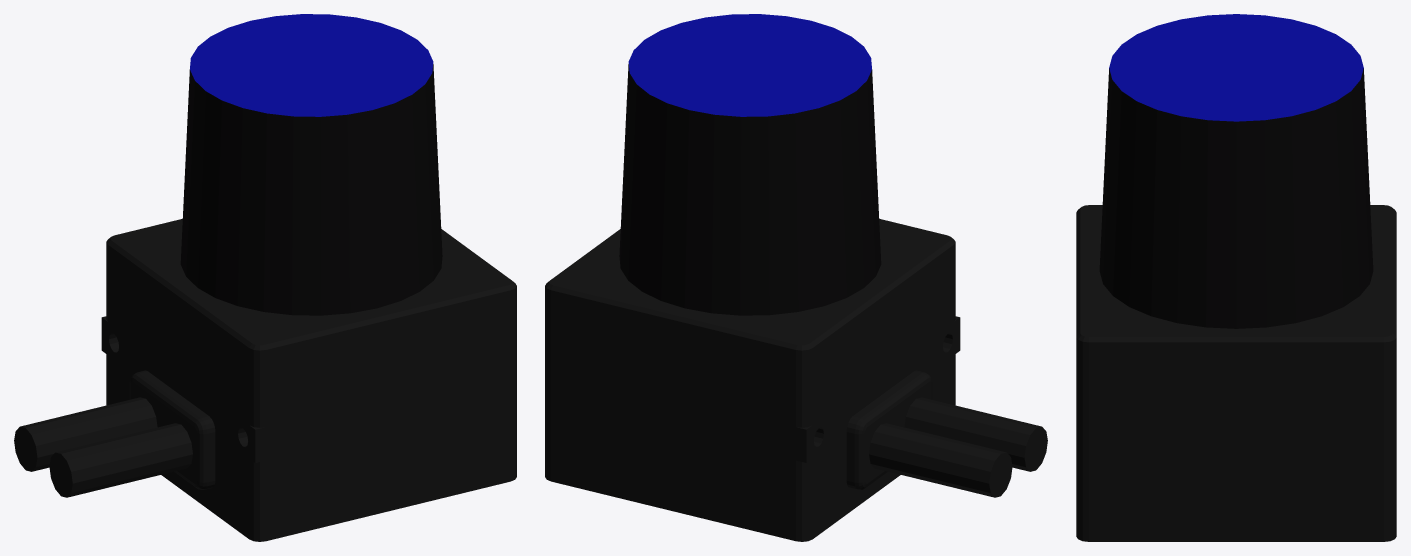
File: hokuyo_ust20lx.obj
3 views of the same model, side by side, from view 1: azimuth 30°, elevation 25°; view 2: azimuth 150°, elevation 25°; view 3: azimuth 270°, elevation 25° (orthographic). The views are drawn at different scales.
Parts seen in each view (by area): view 1: ust-20lx_ust-20lx; view 2: ust-20lx_ust-20lx; view 3: ust-20lx_ust-20lx.
Boxes of the visible parts, x1=… form: ust-20lx_ust-20lx: x1=14, y1=14, x2=516, y2=541; ust-20lx_ust-20lx: x1=545, y1=14, x2=1047, y2=541; ust-20lx_ust-20lx: x1=1076, y1=14, x2=1396, y2=541.
Size of the model in its own units: 0.0754 by 0.07 by 0.05.
